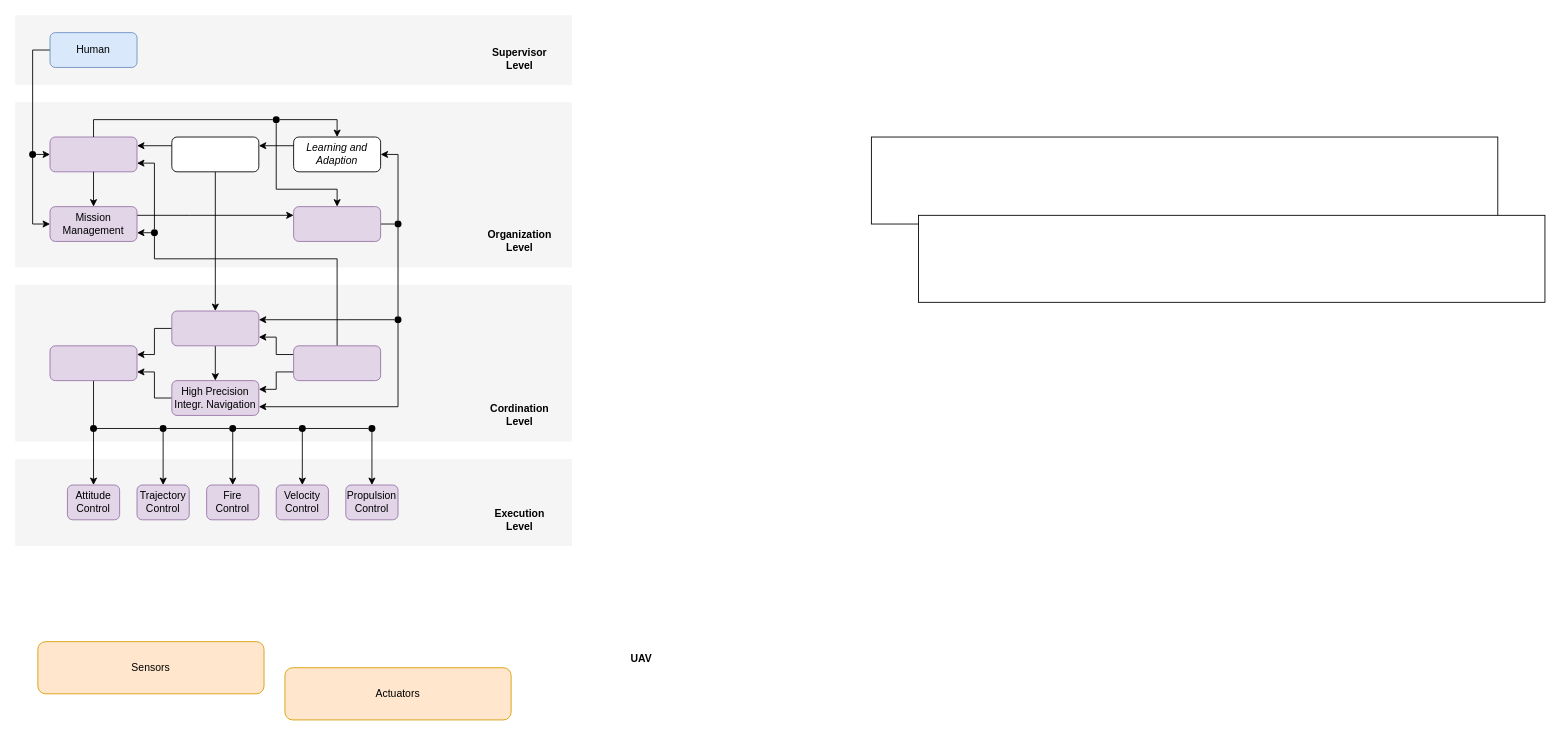
Some shapes in this 1560 by 735 pixel diagram are drawn without their labels. The shapes that lost their labels are listed below. From the top down, each one's centre as x and y in pixels, then its label:
the point at 93,154: Situation Assessment
the point at 215,154: Knowledge and Restriction
the point at 337,223: Decision Making
the point at 215,328: 4D Trajectory (Re-)Planning
the point at 93,363: Coordination
the point at 337,363: Multi-Sensor Data Fusion/Processing
